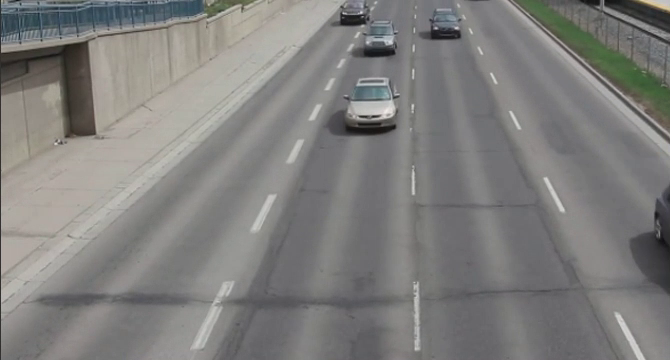car: (342, 76, 402, 137), (426, 7, 470, 40), (364, 21, 398, 57), (337, 2, 373, 29)
